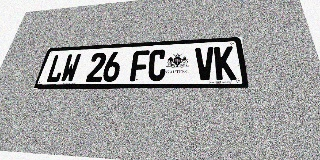2: (86, 52, 107, 82)
6: (101, 51, 123, 82)
C: (147, 49, 167, 81)
F: (129, 50, 150, 81)
K: (214, 46, 236, 80)
L: (45, 54, 67, 83)
V: (195, 47, 215, 80)
W: (59, 53, 81, 83)
